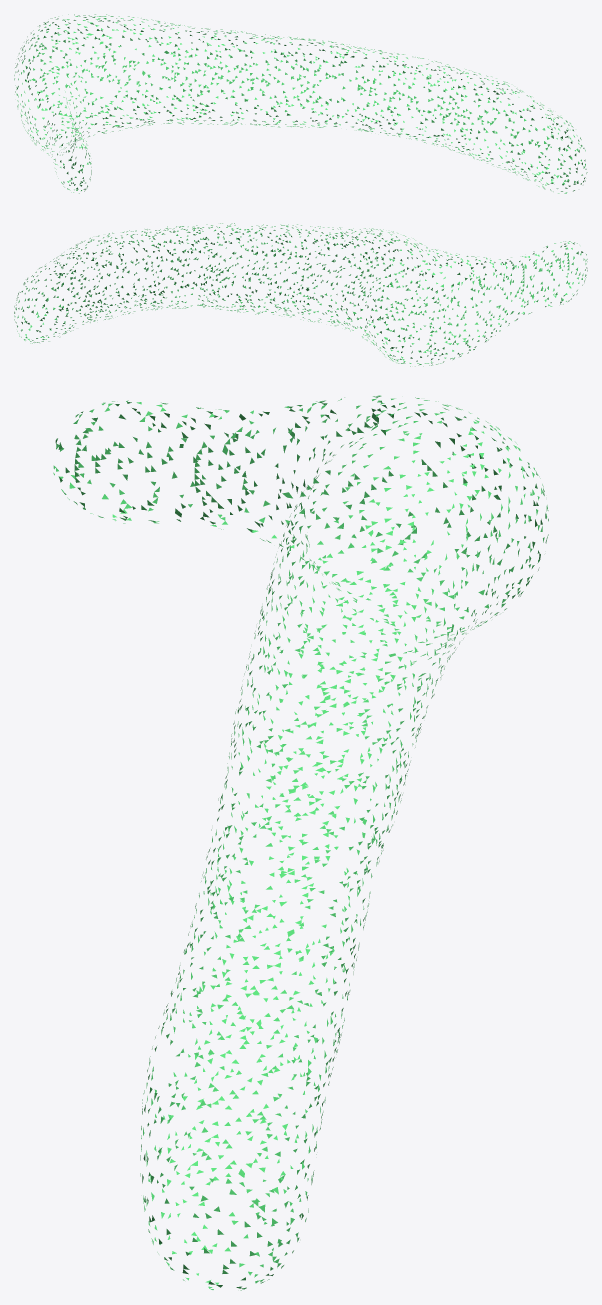
Rendered from morph_020.glb.
The picture shows the model from 3 angles, top to bottom: view 1: azimuth 30°, elevation 25°; view 2: azimuth 150°, elevation 25°; view 3: azimuth 270°, elevation 25°; orthographic projection. The views are drawn at different scales.
Size of the model in its own units: 130 by 54.7 by 53.11.
